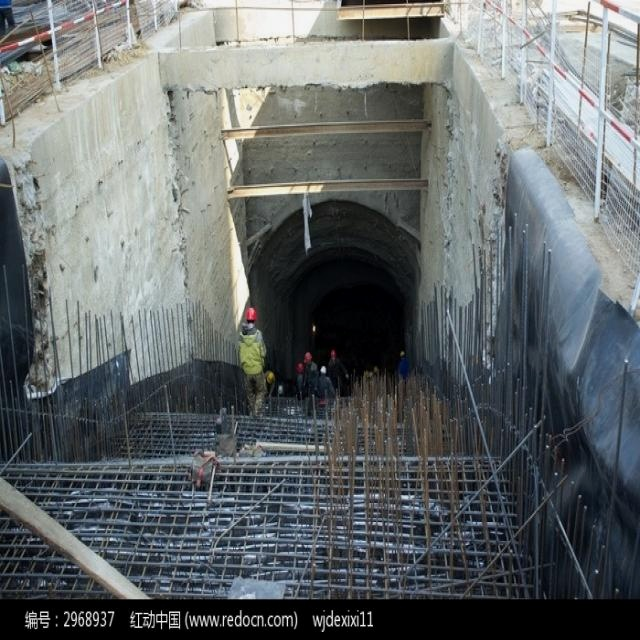Con_Casco: (245, 305, 258, 327)
